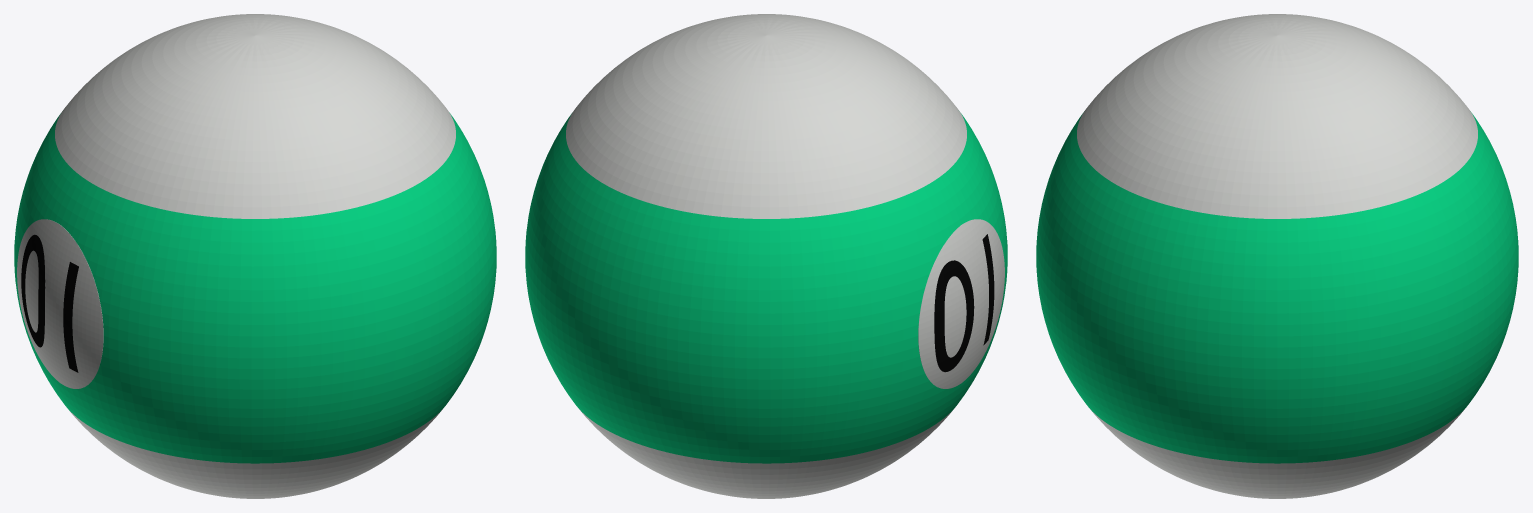
File: Ball#10.fbx
The picture shows the model from 3 angles, left to right: view 1: azimuth 30°, elevation 25°; view 2: azimuth 150°, elevation 25°; view 3: azimuth 270°, elevation 25°; orthographic projection.
Visible parts, largest first — view 1: Sphere, Sphere.001, Text; view 2: Sphere, Sphere.001, Text; view 3: Sphere.
Boxes of the visible parts, x1,y1,x2,y2 form: Sphere: (14, 14, 496, 498); Sphere.001: (17, 219, 103, 388); Text: (21, 234, 78, 372); Sphere: (525, 14, 1007, 498); Sphere.001: (918, 219, 1004, 388); Text: (934, 234, 994, 372); Sphere: (1036, 14, 1518, 498).
Bounding box in the file's own units: 198 × 200 × 198.
